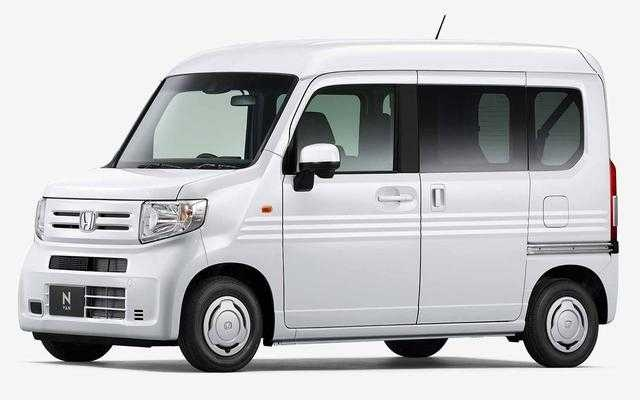van: (16, 37, 619, 367)
